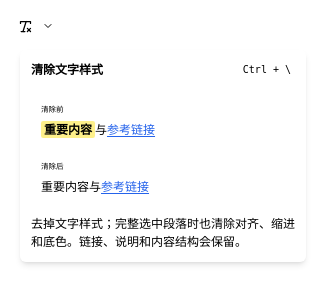
it: dismisses the split main-action preview as its options start opening
Expected: the element that starts with "清除文字样式" is shown, x1=31 y1=61 x2=295 y2=251
Hover over the button with class "nb-text-reset-expand" at (48, 26), box x1=38 y1=12 x2=58 y2=40
Wait 300 ms
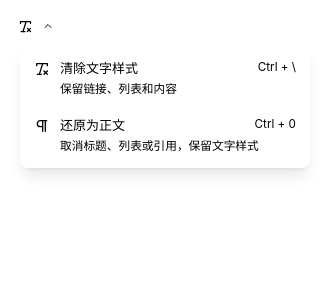
Now the menu with class "nb-text-reset-menu" is shown, box x1=20 y1=46 x2=310 y2=168
